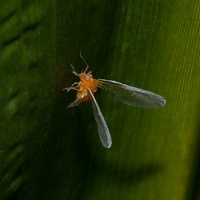insect: (63, 52, 165, 147)
